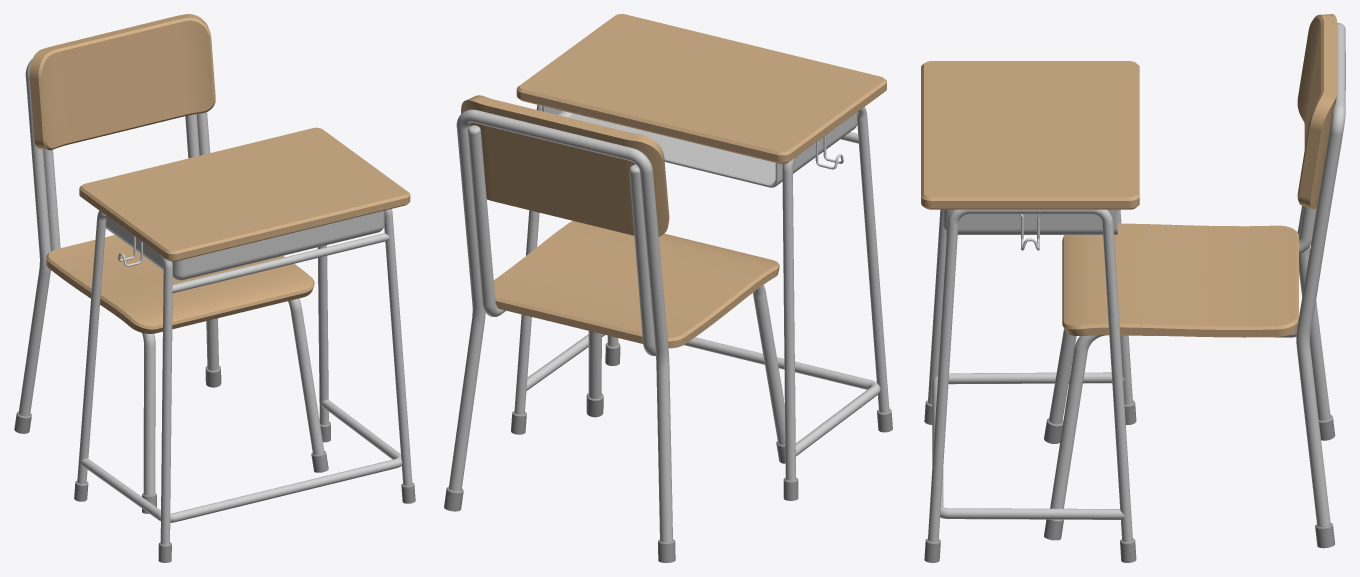
File: 715_school_desk_set_L.glb
3 views of the same model, side by side, from view 1: azimuth 30°, elevation 25°; view 2: azimuth 150°, elevation 25°; view 3: azimuth 270°, elevation 25° (orthographic). The views are drawn at different scales.
Parts seen in each view (by area): view 1: desk, chair; view 2: chair, desk; view 3: desk, chair.
Boxes of the visible parts, <box> form: desk: <box>74,127,415,562</box>; chair: <box>14,14,328,513</box>; chair: <box>444,95,785,562</box>; desk: <box>511,14,892,500</box>; desk: <box>921,61,1139,562</box>; chair: <box>1044,14,1345,548</box>.
Bounding box in the file's own units: 0.628 × 0.8801 × 0.7772.
